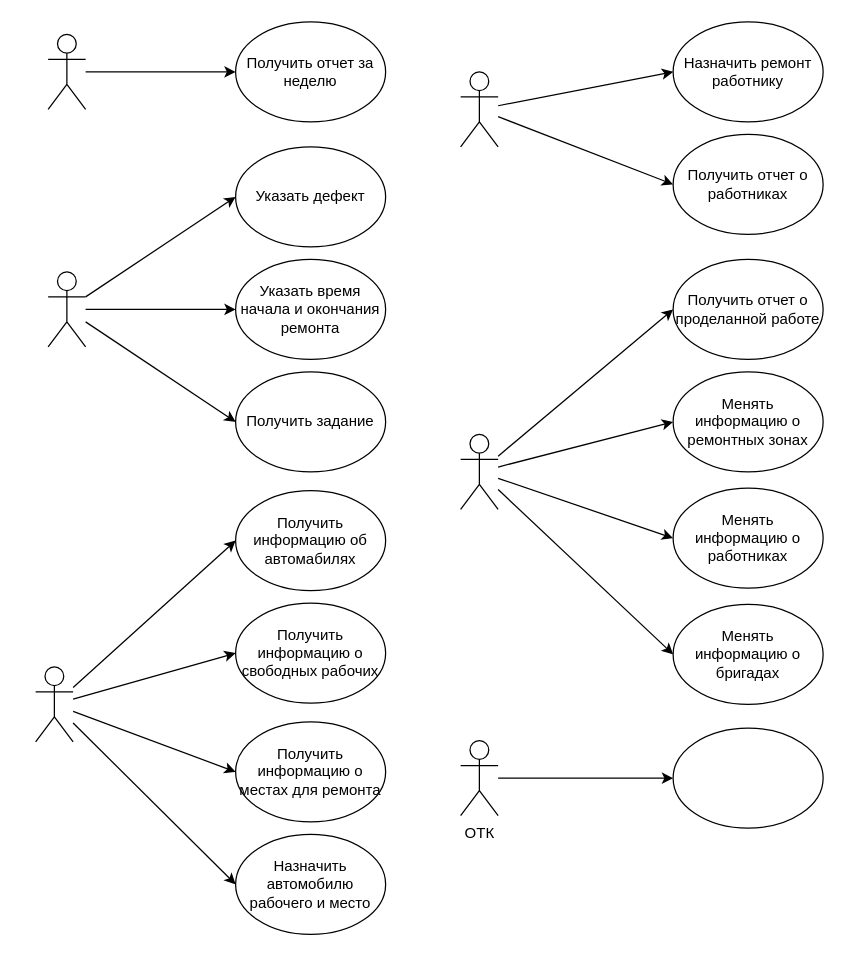
Image size: 845x956. Some labels were removed from this diagram. The shapes that lost their labels are listed below. From the top down, each one's centre as x and y in pixels, then its label:
At point (66, 71): "бухгалтер".
At point (478, 109): "Бригадир".
At point (66, 309): "Рабочий".
At point (478, 471): "Начальник цеха".
At point (53, 704): "Диспечер".
At point (747, 777): "Получить полный отчет о работах и дефектах".
